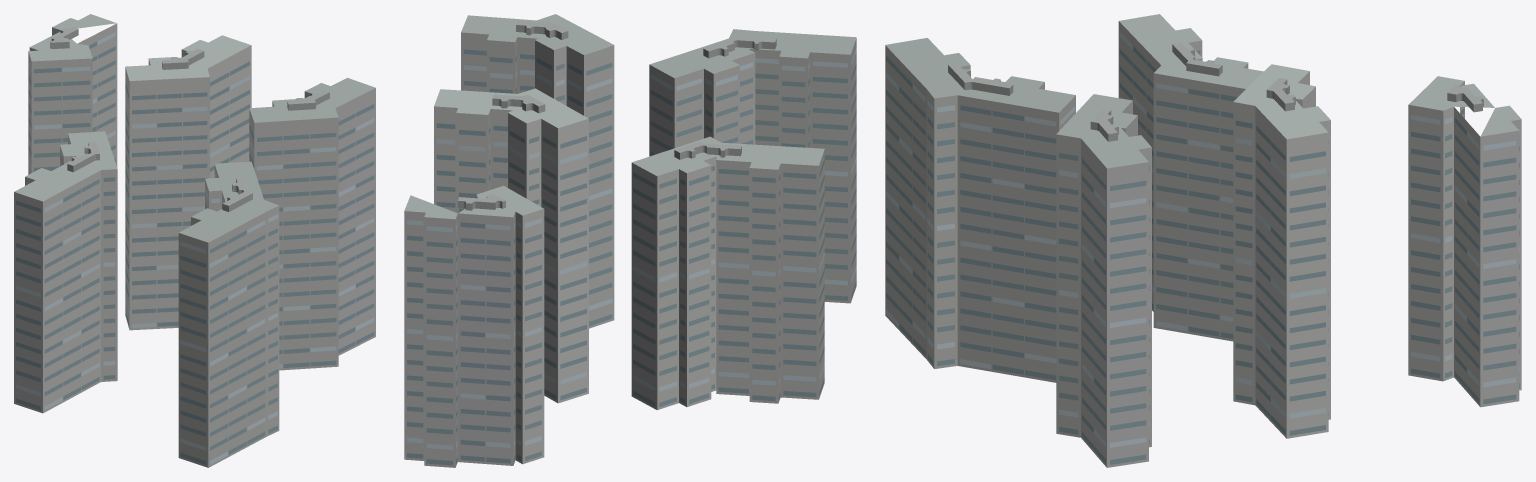
File: apt-a10023825.glb
3 renders of one model, left to right at view 1: azimuth 30°, elevation 25°; view 2: azimuth 150°, elevation 25°; view 3: azimuth 270°, elevation 25°, orthographic. The views are drawn at different scales.
Parts seen in each view (by area): view 1: apt-a10023825; view 2: apt-a10023825; view 3: apt-a10023825.
Part boxes in pixels (left/top/right/bottom): apt-a10023825: left=14, top=14, right=375, bottom=467; apt-a10023825: left=404, top=14, right=856, bottom=467; apt-a10023825: left=885, top=14, right=1521, bottom=467.
Bounding box in the file's own units: 134 × 96 × 180.
